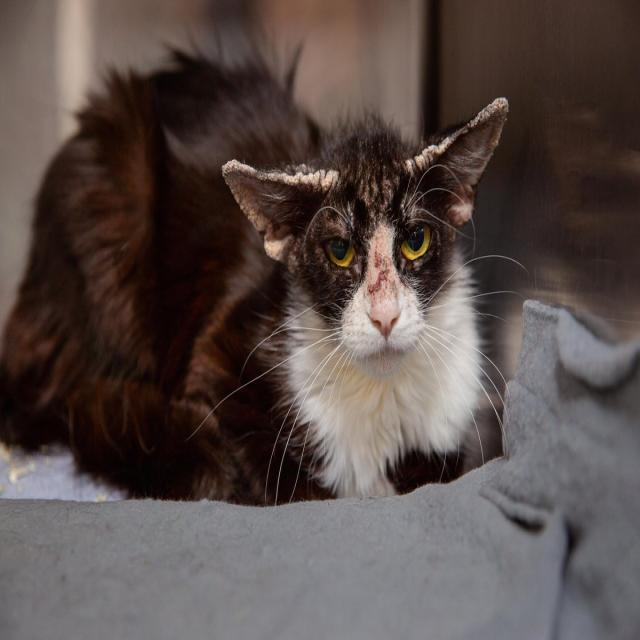cat-scabies: (402, 74, 514, 230), (220, 148, 344, 269)
